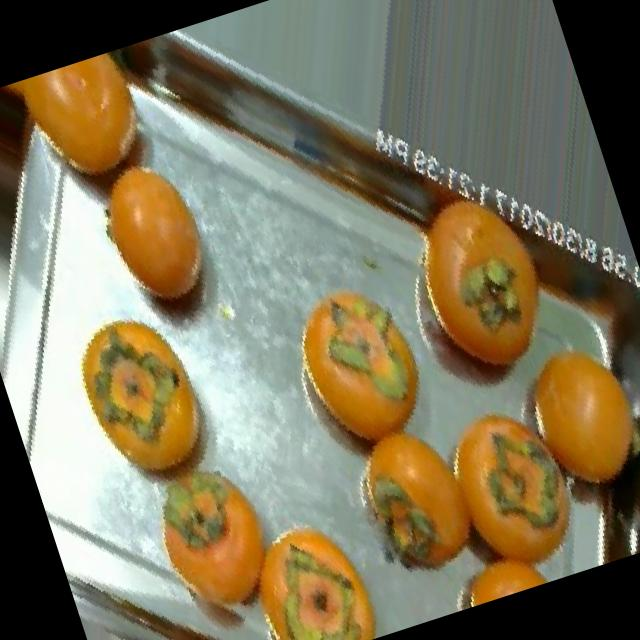Fruit: (35, 276, 249, 536), (256, 246, 462, 497), (51, 126, 248, 354), (482, 304, 640, 532), (211, 490, 396, 640), (0, 75, 93, 289)
